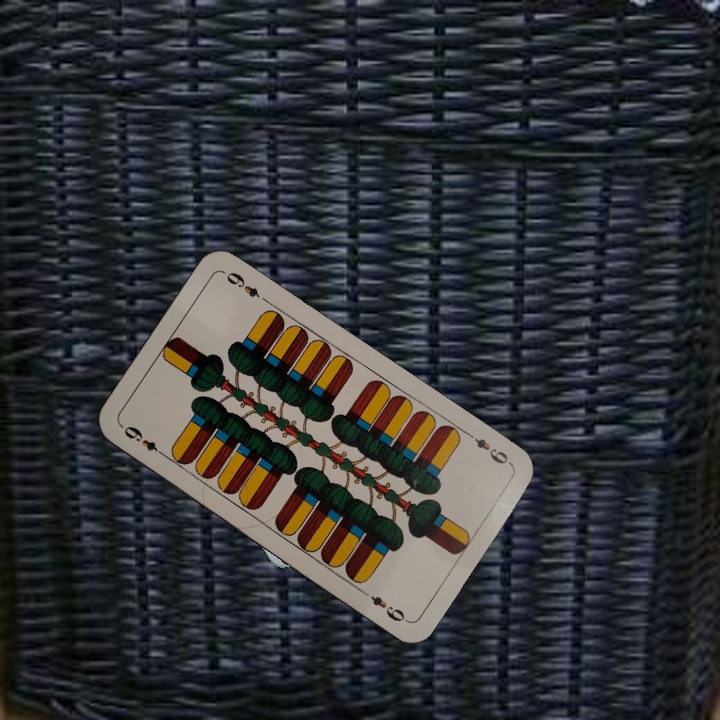E9: (462, 428, 514, 468), (119, 421, 170, 461)
